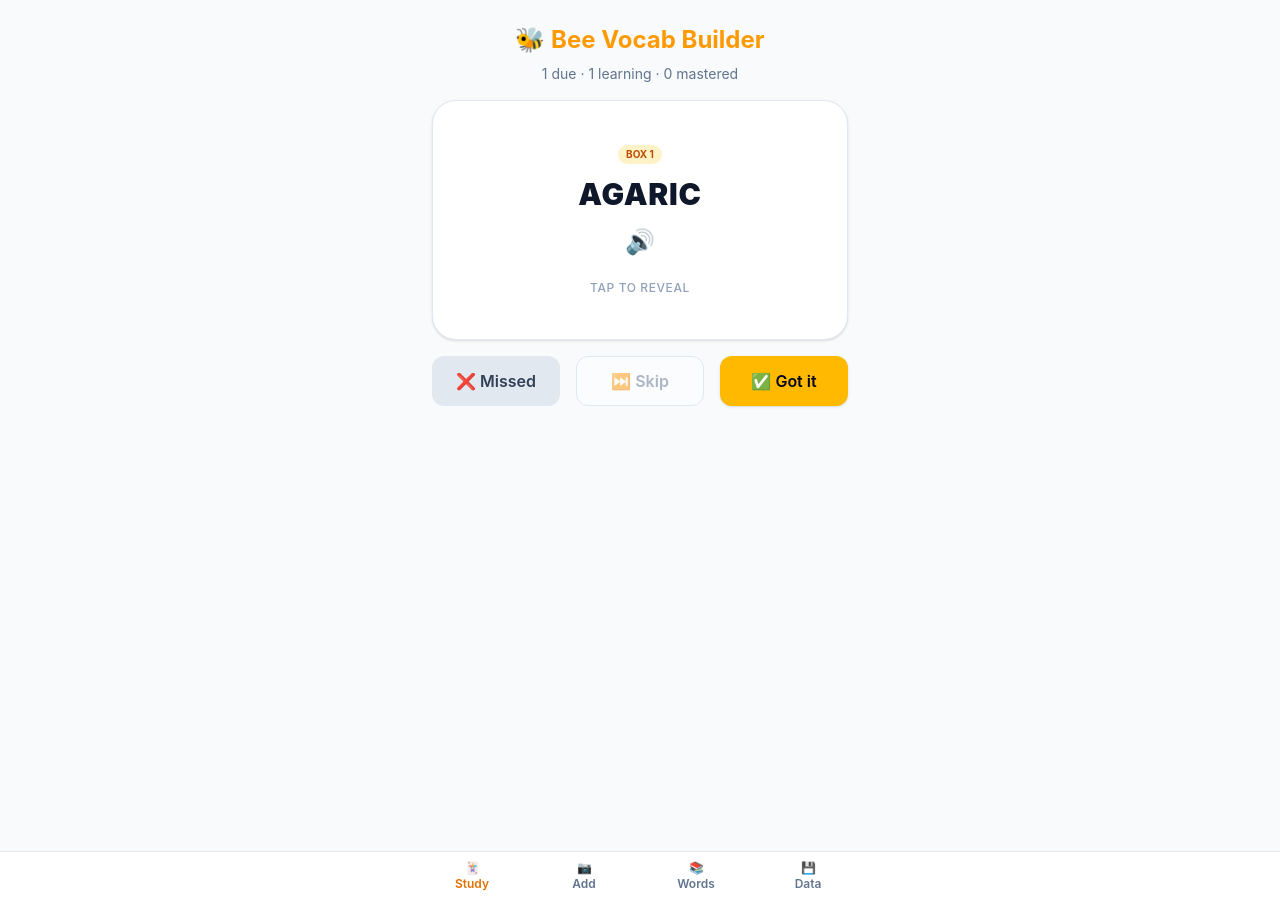
Test: filters an already-shown sense out of a multi-sense definition, keeping the rest
Click the button "📚 Words".
click(696, 876)  # box [640,852,752,899]
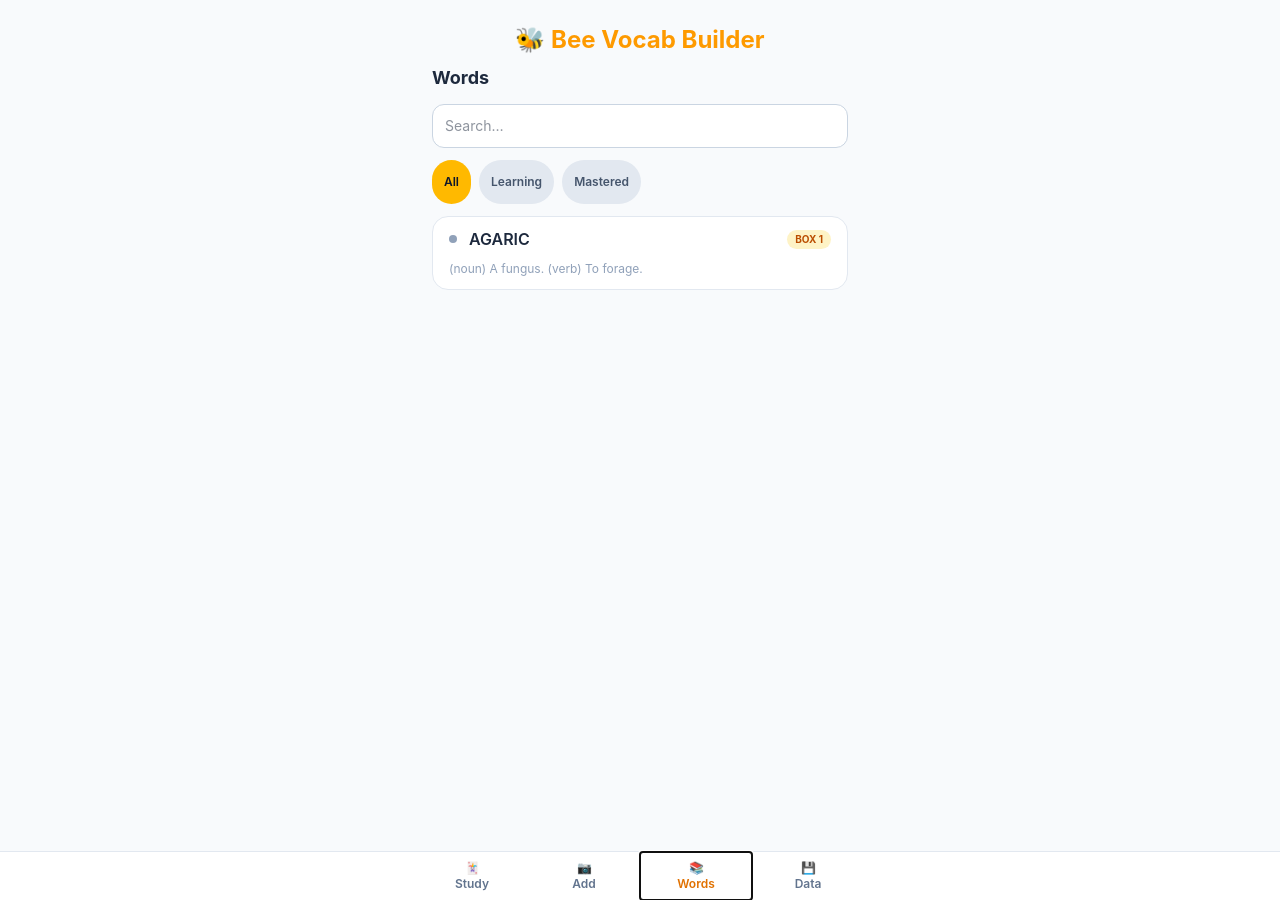
Click the button "AGARIC Box 1".
click(499, 239)  # box [433,217,847,261]
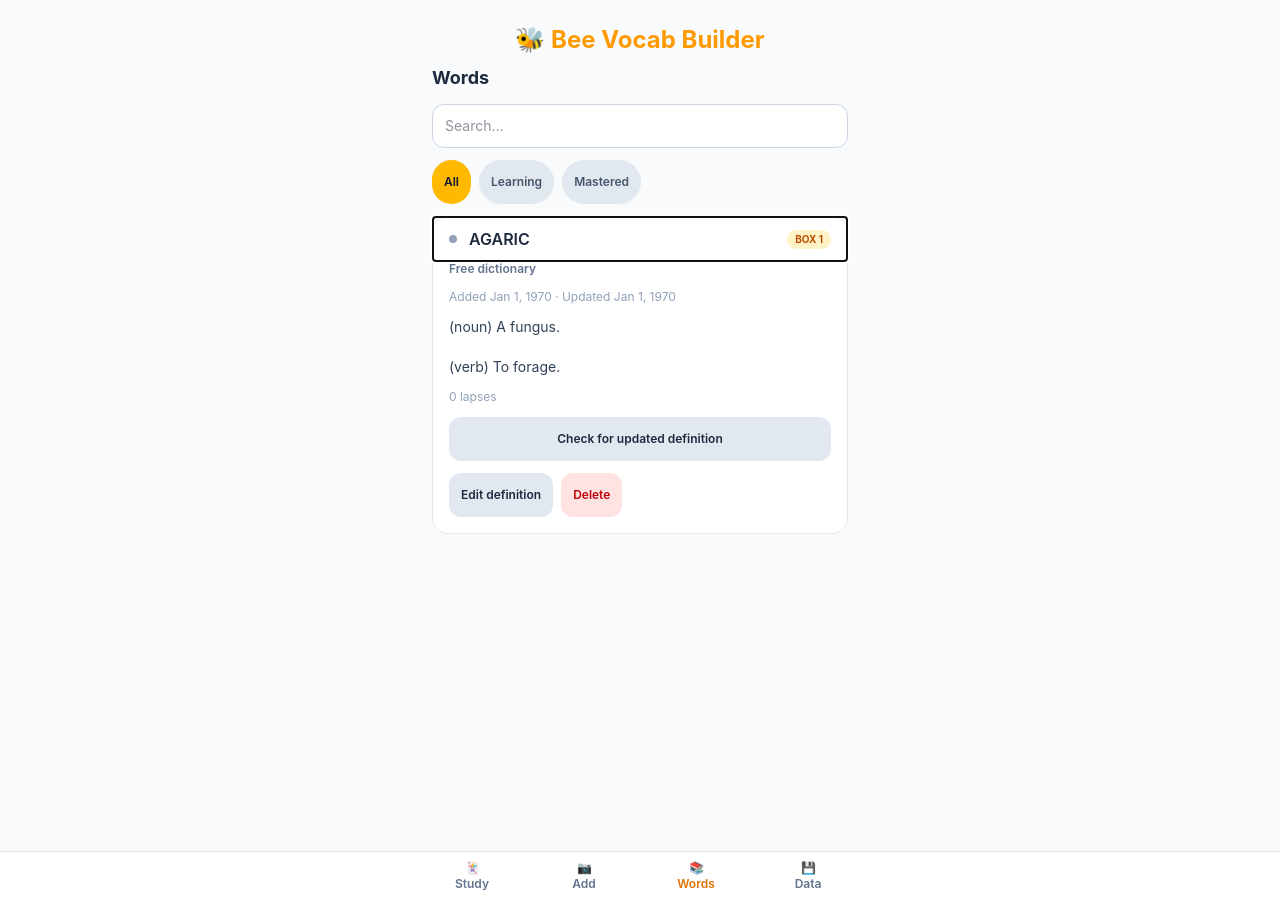
Click the button "Edit definition".
click(501, 495)  # box [449,473,553,517]
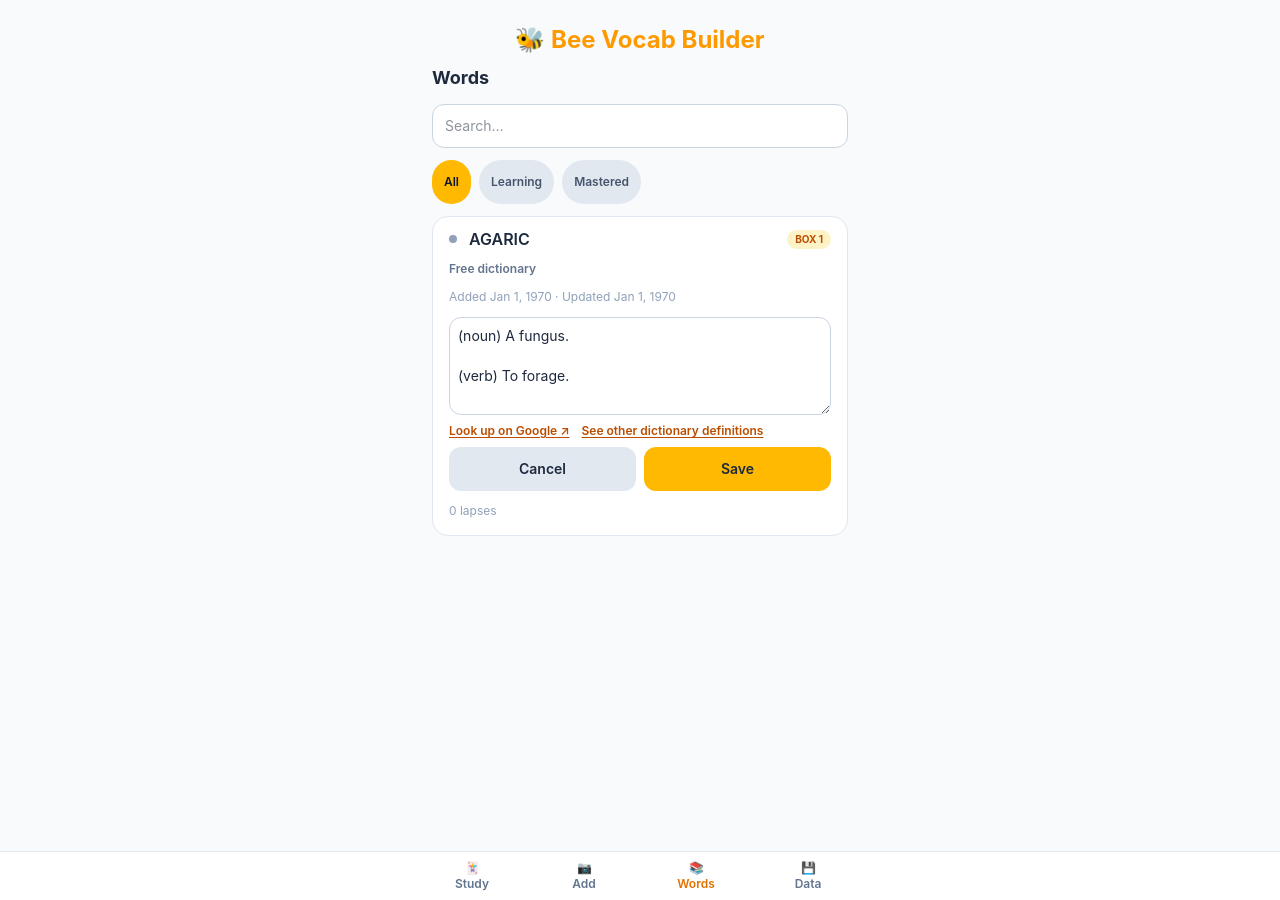
Click the button "See other dictionary definitions".
click(672, 431)  # box [582,423,764,439]
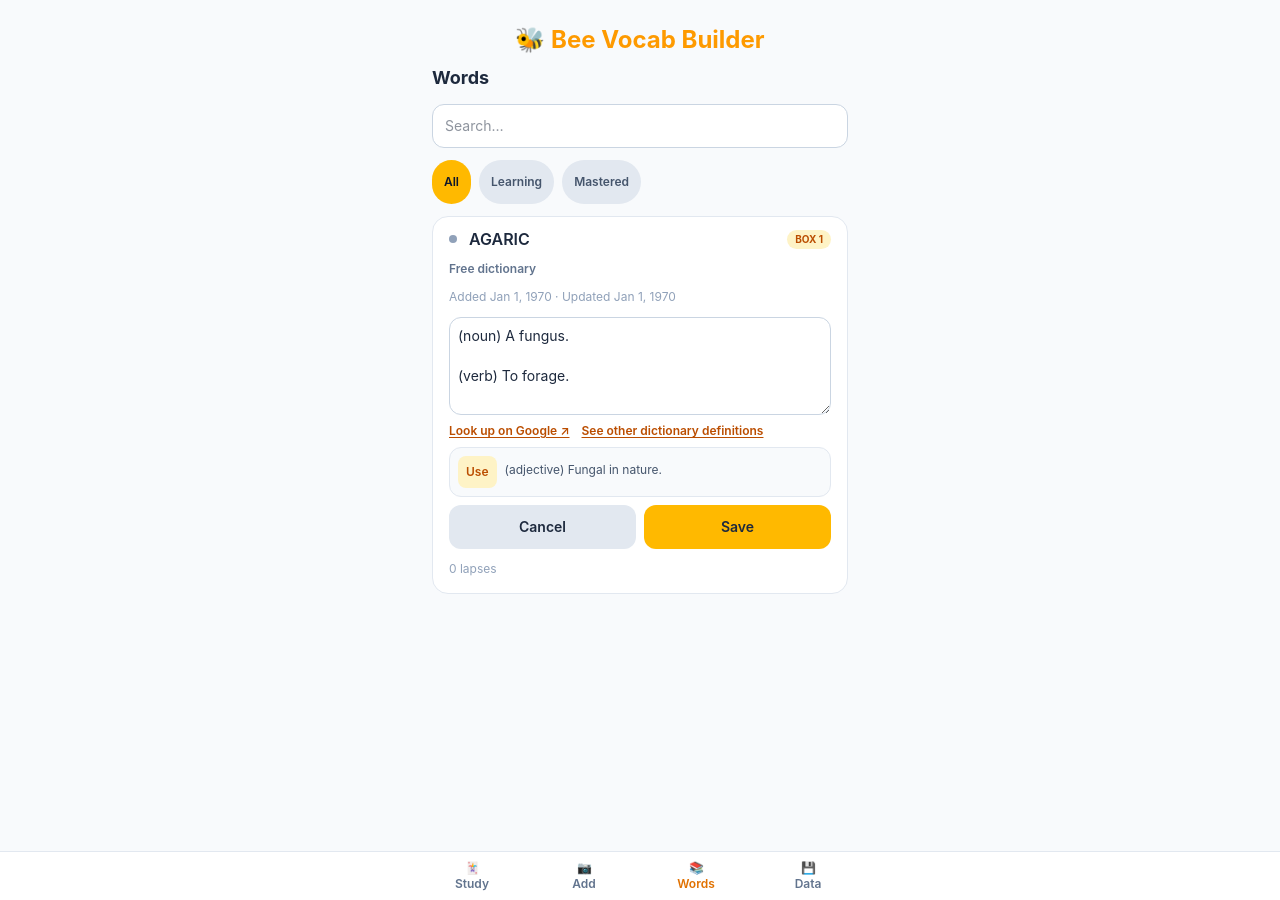
Check: the text "(adjective) Fungal in nature." is shown, box [504,456,662,478]
